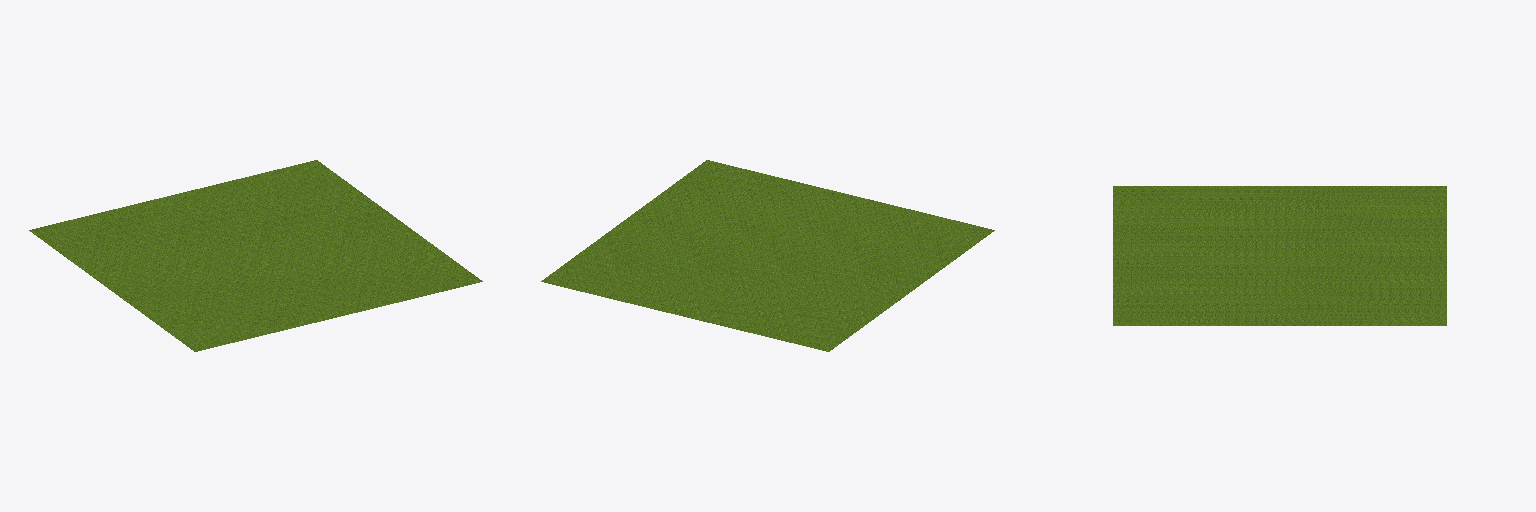
3 renders of one model, left to right at view 1: azimuth 30°, elevation 25°; view 2: azimuth 150°, elevation 25°; view 3: azimuth 270°, elevation 25°, orthographic.
Visible parts, largest first — view 1: Ground; view 2: Ground; view 3: Ground.
Boxes of the visible parts, x1=… form: Ground: x1=29, y1=160, x2=482, y2=351; Ground: x1=541, y1=160, x2=994, y2=351; Ground: x1=1113, y1=186, x2=1446, y2=325.
Size of the model in its own units: 200 by 0 by 200.
1 materials, 1 textured.